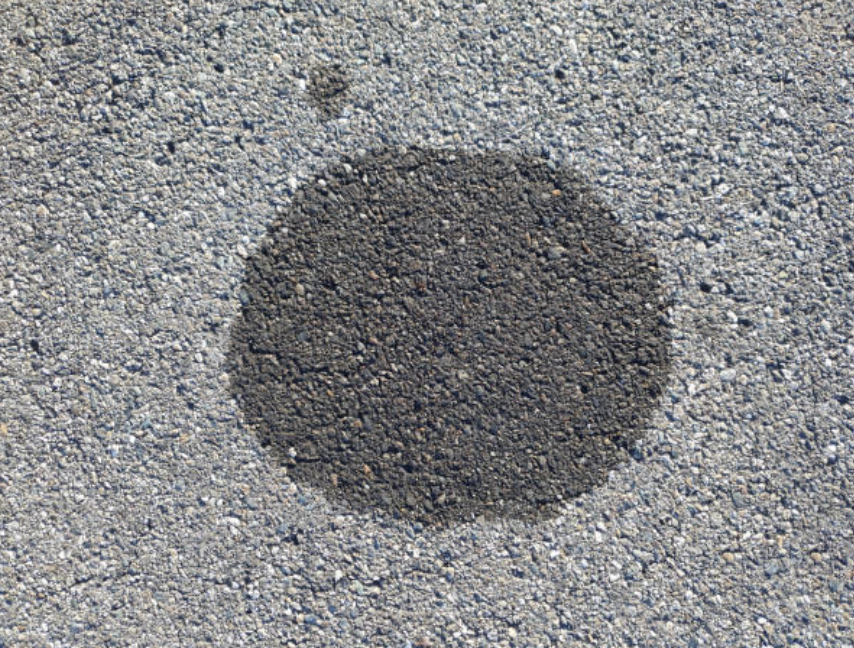oil: (115, 72, 338, 267), (151, 32, 174, 61)
